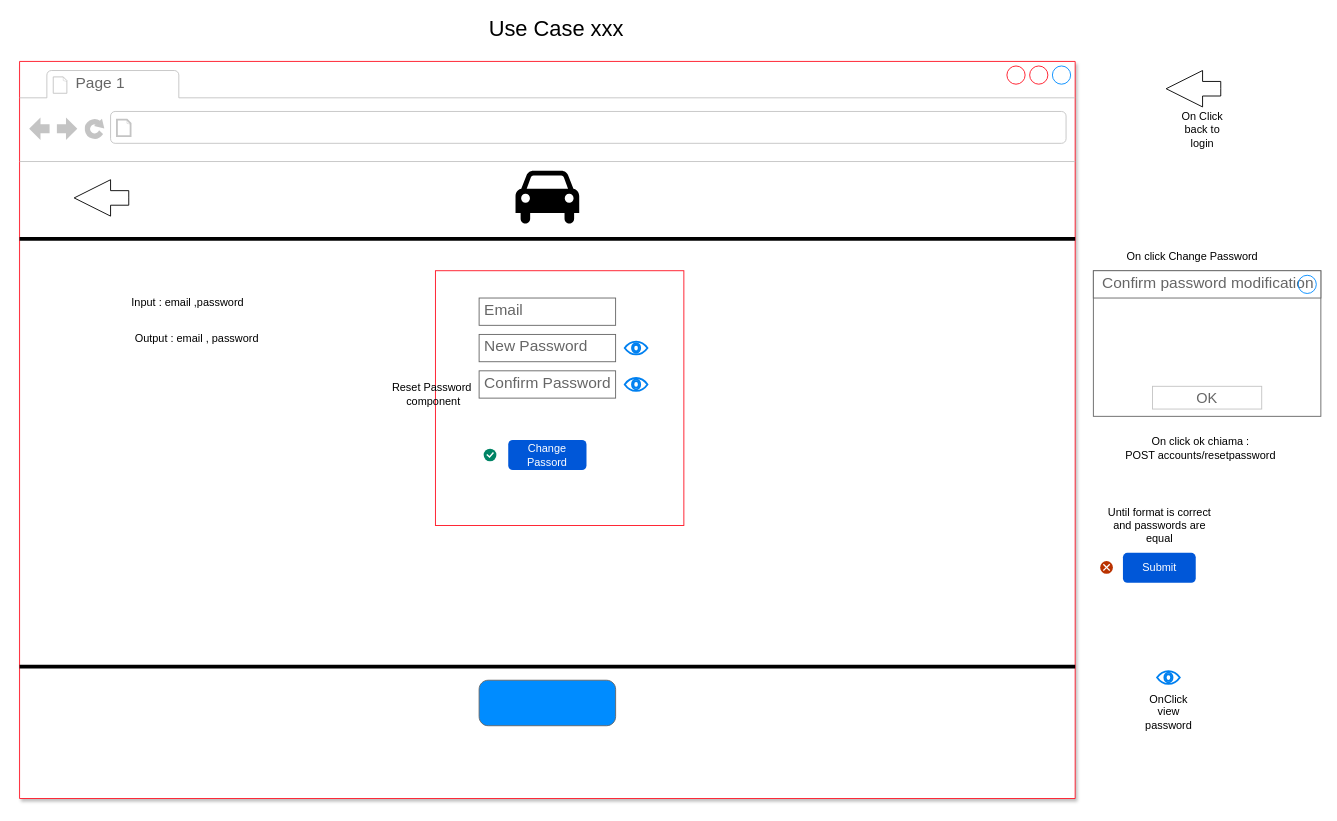
The diagram is 1337 pixels wide and 821 high, and some of its shapes have lost their labels. Here are the shapes that lost their labels. From the top down, the centre of each, then its label:
pixel 251 127: https://www.mypersonaldriver/documents.it
pixel 1206 343: Open your email and click on the confirmation link to change your password.
pixel 547 702: About us
